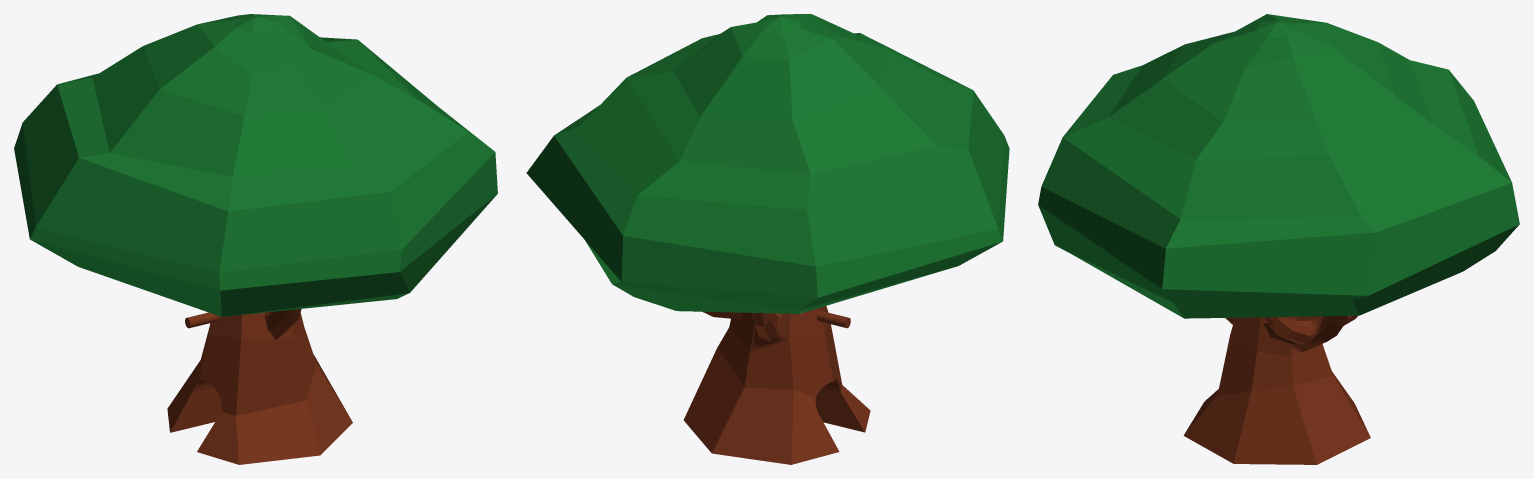
File: tree.glb
3 renders of one model, left to right at view 1: azimuth 30°, elevation 25°; view 2: azimuth 150°, elevation 25°; view 3: azimuth 270°, elevation 25°, orthographic.
Parts seen in each view (by area): view 1: Tree; view 2: Tree; view 3: Tree.
Boxes of the visible parts, x1=… form: Tree: x1=14, y1=14, x2=497, y2=464; Tree: x1=526, y1=14, x2=1009, y2=464; Tree: x1=1038, y1=14, x2=1519, y2=464.
Bounding box in the file's own units: 10.21 × 9.19 × 9.89.
